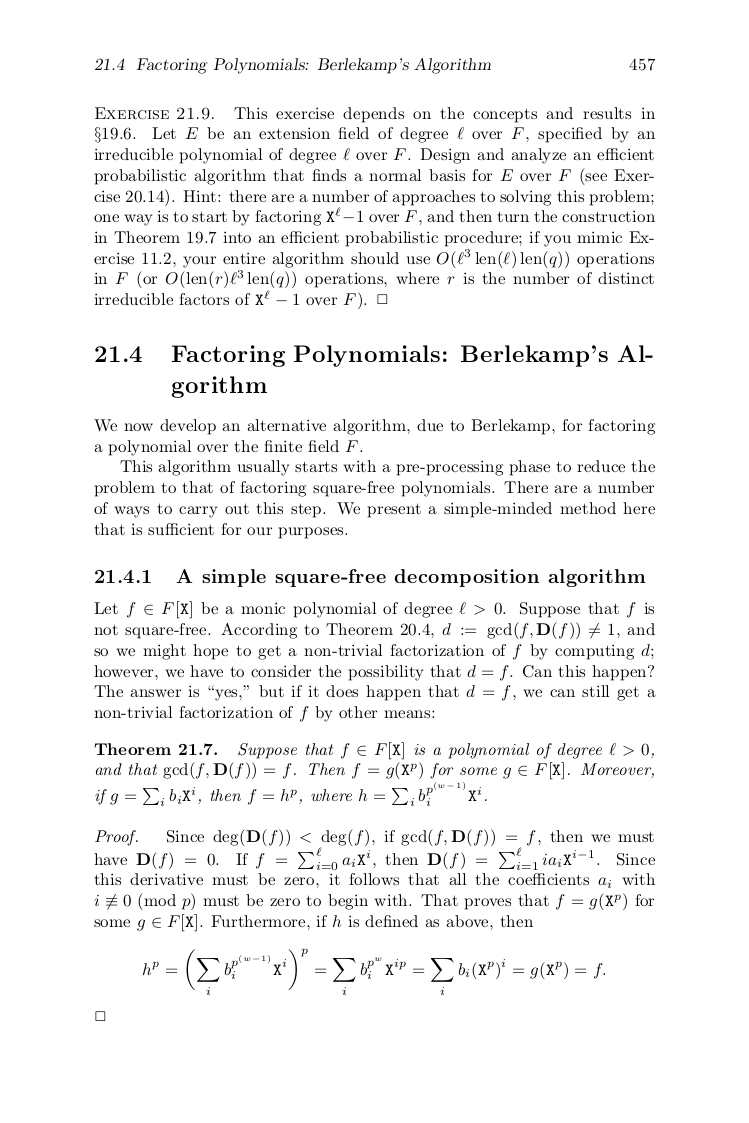formula: (143, 947, 605, 995)
